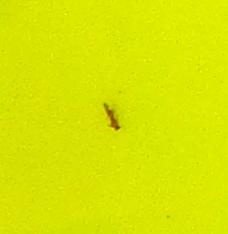Brachycera: (100, 100, 128, 134)
